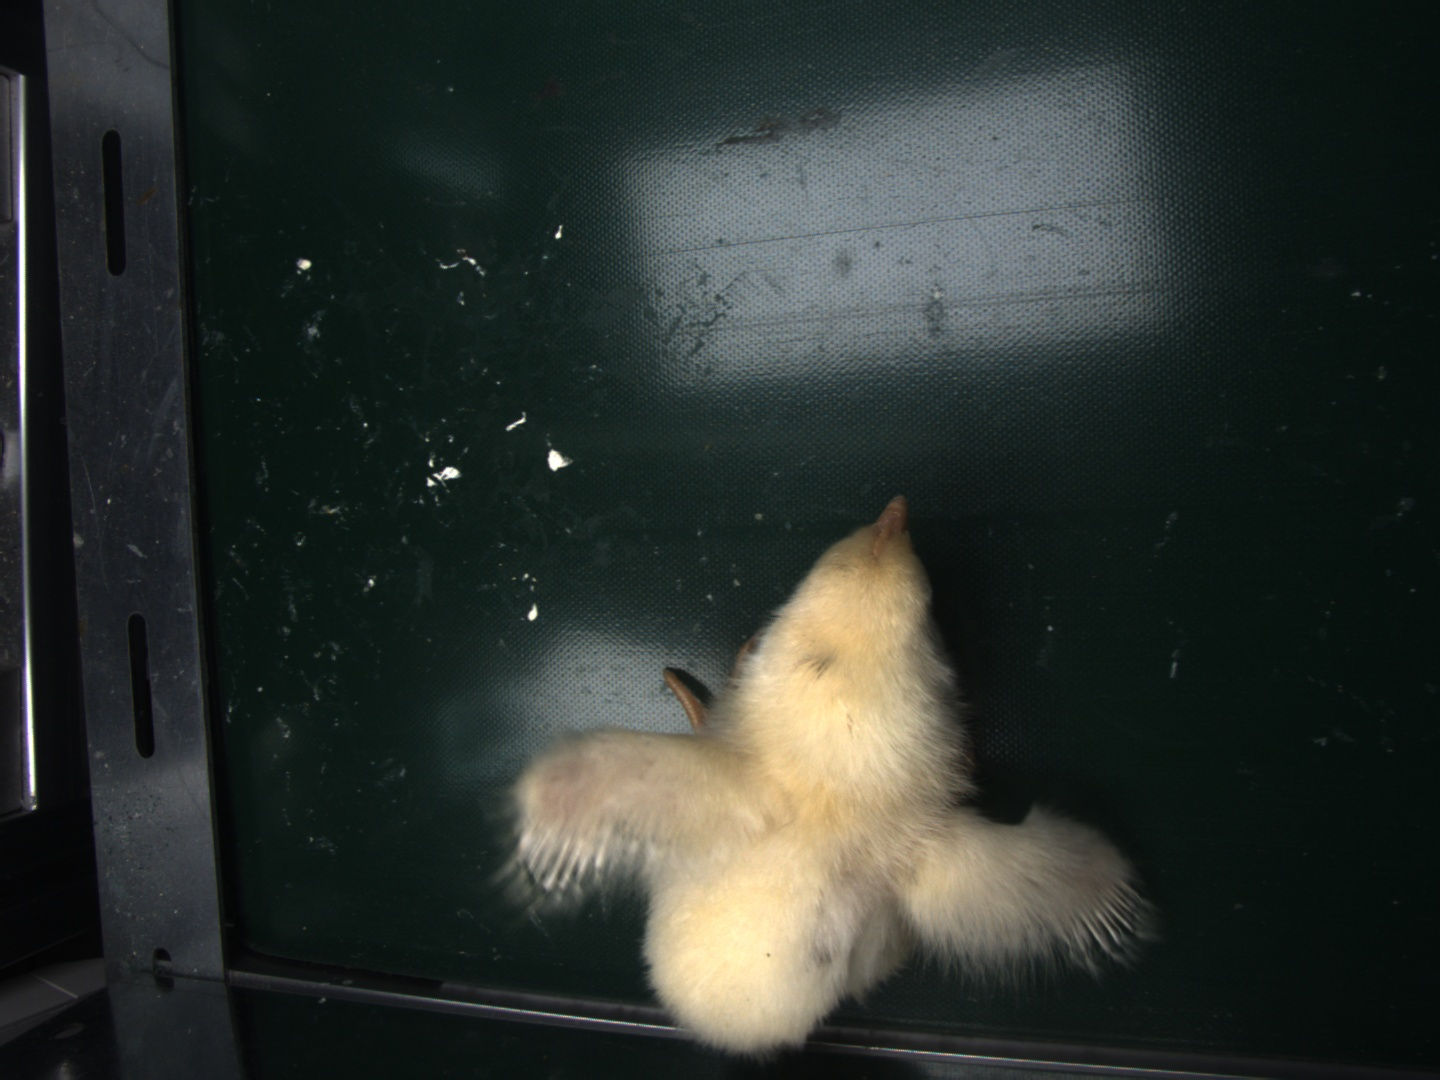male: (1061, 881, 1141, 962)
